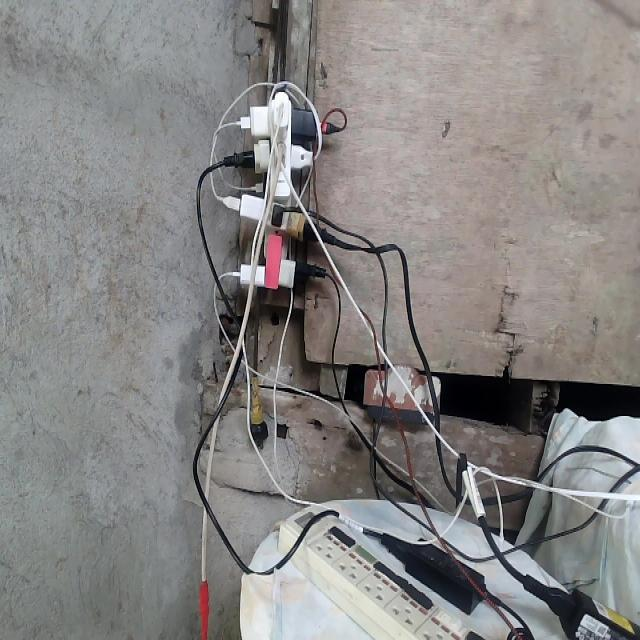-: (226, 86, 323, 290)
